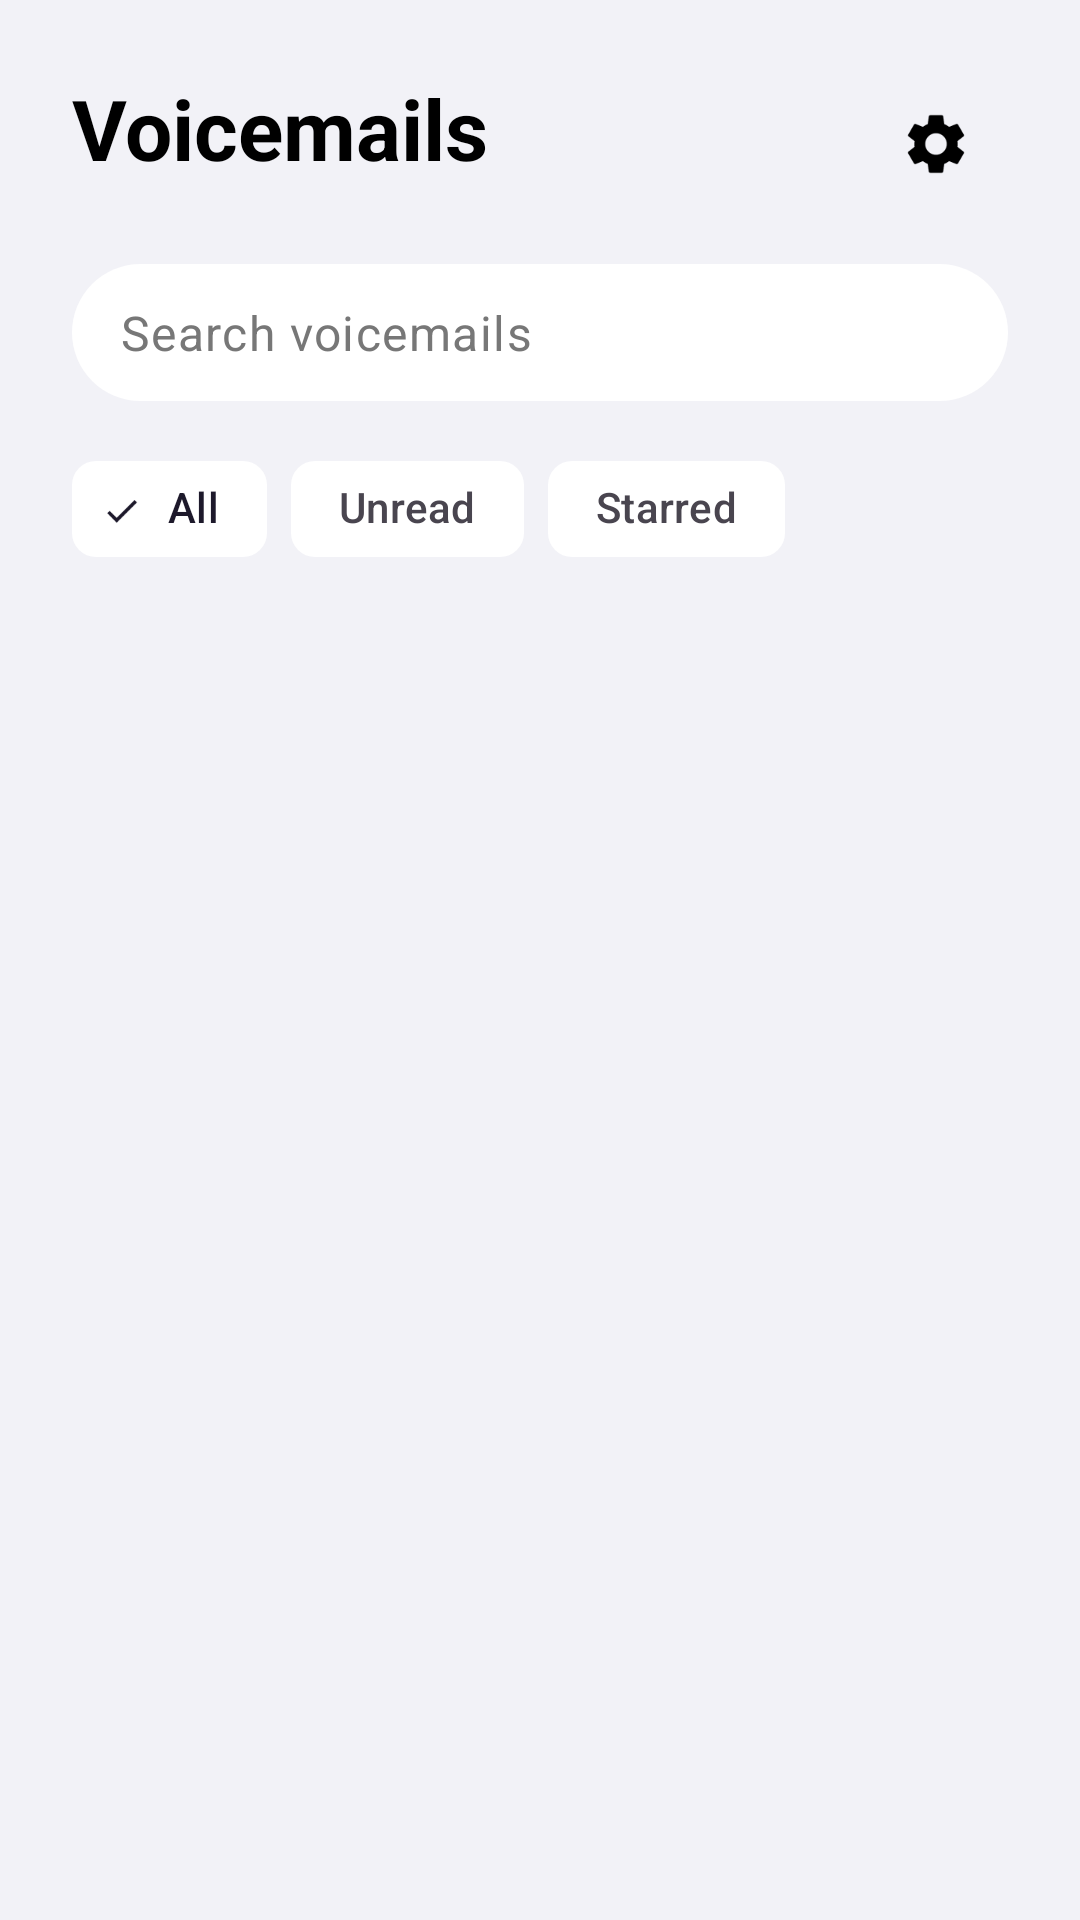

Screen size 1080w x 1920h. Icon name, then its box in pixels as (x1, y1, x2, y2):
settings: (907, 115, 965, 173)
